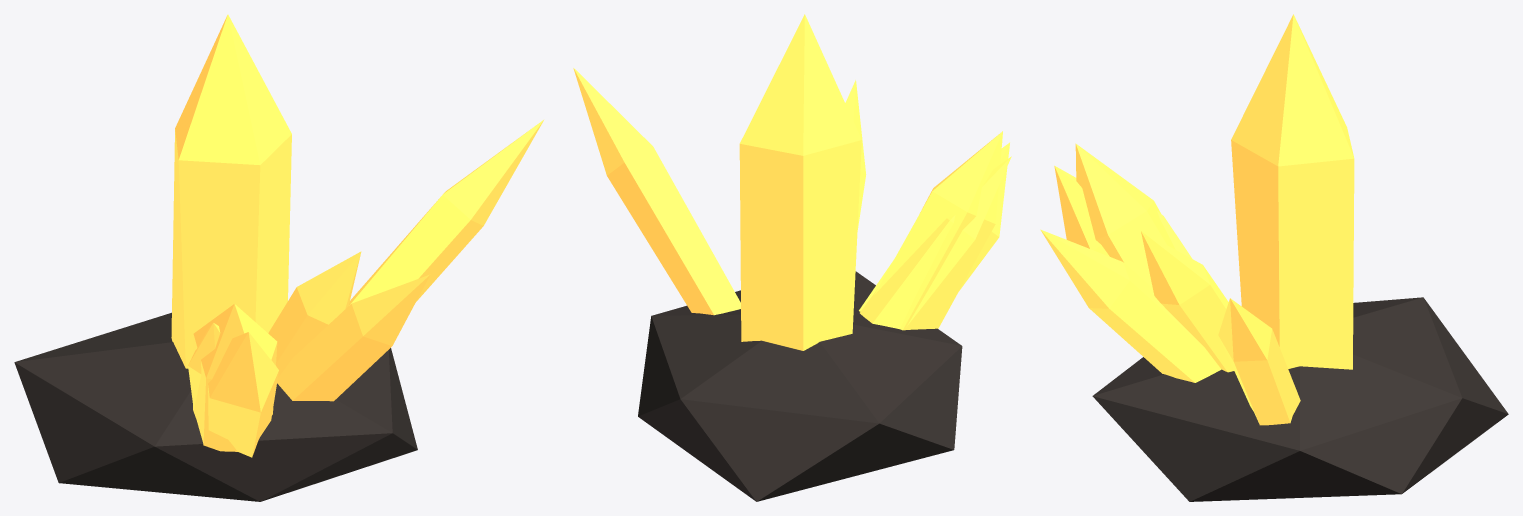
Rendered from wb_crystal_core_lod1.glb.
3 renders of one model, left to right at view 1: azimuth 30°, elevation 25°; view 2: azimuth 150°, elevation 25°; view 3: azimuth 270°, elevation 25°, orthographic. The views are drawn at different scales.
Visible parts, largest first — view 1: wb_crystal_core_lod1; view 2: wb_crystal_core_lod1; view 3: wb_crystal_core_lod1.
Part boxes in pixels (bbox=[...]): wb_crystal_core_lod1: bbox=[14, 14, 543, 501]; wb_crystal_core_lod1: bbox=[573, 14, 1011, 501]; wb_crystal_core_lod1: bbox=[1040, 14, 1508, 501].
Size of the model in its own units: 2.07 by 2.07 by 1.91.
